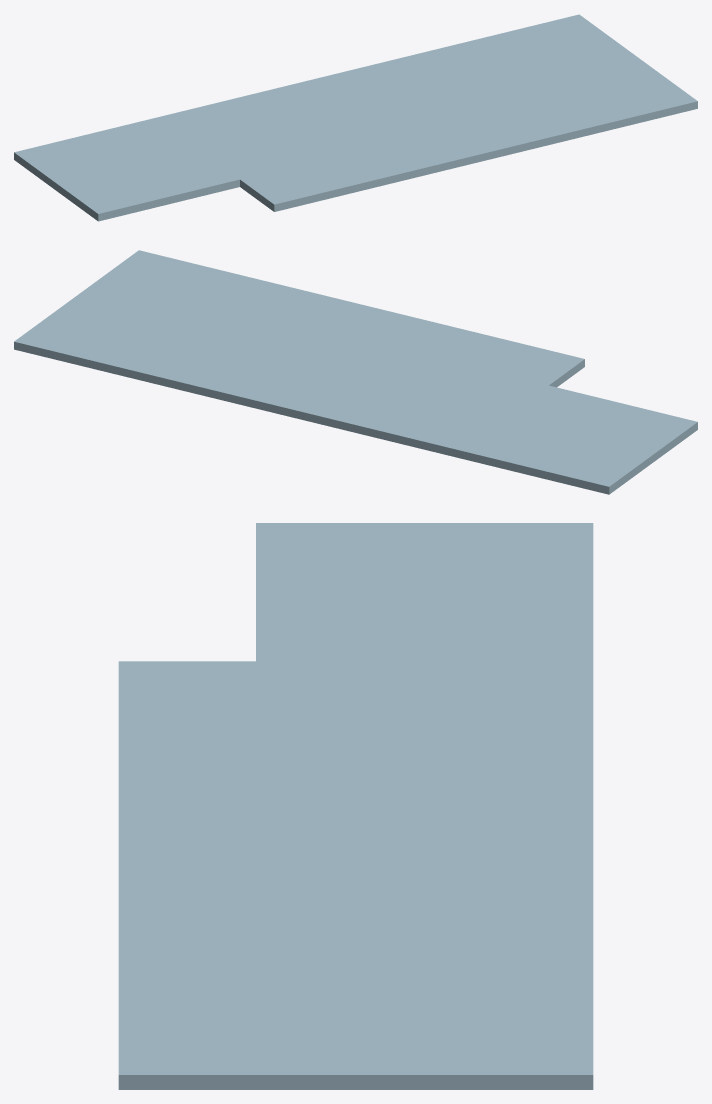
Rendered from S_Siling.fbx.
3 views of the same model, one above another, from view 1: azimuth 30°, elevation 25°; view 2: azimuth 150°, elevation 25°; view 3: azimuth 270°, elevation 25° (orthographic). The views are drawn at different scales.
Visible parts, largest first — view 1: Walls.001; view 2: Walls.001; view 3: Walls.001.
Part boxes in pixels (left/top/right/bottom): Walls.001: left=14, top=14, right=697, bottom=221; Walls.001: left=14, top=250, right=697, bottom=494; Walls.001: left=118, top=523, right=593, bottom=1089.
Bounding box in the file's own units: 1200 × 15.23 × 436.
